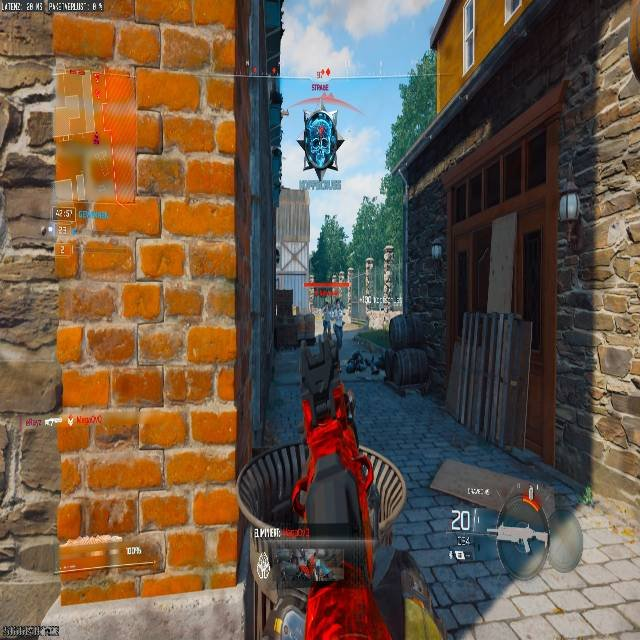player: (300, 107, 344, 180), (322, 291, 353, 353), (323, 299, 344, 338), (347, 352, 362, 373)
